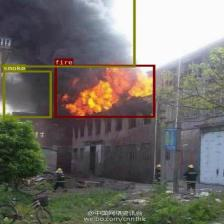fire: (54, 64, 155, 118)
smoke: (0, 0, 135, 67), (3, 70, 52, 118)
